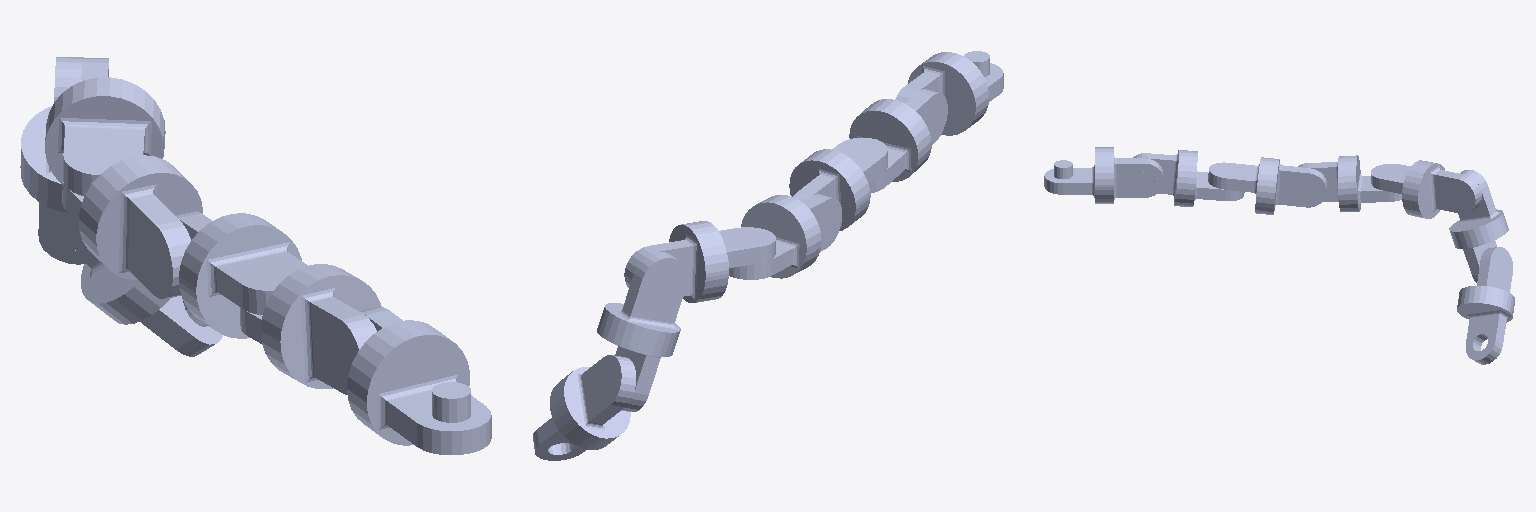
robot.urdf — snake_v1:
<?xml version="1.0" encoding="utf-8"?>
<!-- This URDF was automatically created by SolidWorks to URDF Exporter! Originally created by [author] ([email redacted]) 
     Commit Version: 1.6.0-1-g15f4949  Build Version: 1.6.7594.29634
     For more information, please see http://wiki.ros.org/sw_urdf_exporter -->
<robot
  name="snake_v1">
  <link
    name="snake_part1">
    <inertial>
      <origin
        xyz="0.0051626 -0.0051532 0.050744"
        rpy="0 0 0" />
      <mass
        value="1" />
      <inertia
        ixx="0.074094"
        ixy="-0.0001624"
        ixz="0.0042998"
        iyy="0.073863"
        iyz="0.0035178"
        izz="0.027881" />
    </inertial>
    <visual>
      <origin
        xyz="0 0 0"
        rpy="0 0 0" />
      <geometry>
        <mesh
          filename="package://snake_v1/meshes/snake_part1.STL" />
      </geometry>
      <material
        name="">
        <color
          rgba="0.79216 0.81961 0.93333 1" />
      </material>
    </visual>
    <collision>
      <origin
        xyz="0 0 0"
        rpy="0 0 0" />
      <geometry>
        <mesh
          filename="package://snake_v1/meshes/snake_part1.STL" />
      </geometry>
    </collision>
  </link>
  <link
    name="snake_part2">
    <inertial>
      <origin
        xyz="0.0051626 -0.0051532 -0.15246"
        rpy="0 0 0" />
      <mass
        value="1" />
      <inertia
        ixx="0.074094"
        ixy="-0.0001624"
        ixz="0.0042998"
        iyy="0.073863"
        iyz="0.0035178"
        izz="0.027881" />
    </inertial>
    <visual>
      <origin
        xyz="0 0 0"
        rpy="0 0 0" />
      <geometry>
        <mesh
          filename="package://snake_v1/meshes/snake_part2.STL" />
      </geometry>
      <material
        name="">
        <color
          rgba="0.79216 0.81961 0.93333 1" />
      </material>
    </visual>
    <collision>
      <origin
        xyz="0 0 0"
        rpy="0 0 0" />
      <geometry>
        <mesh
          filename="package://snake_v1/meshes/snake_part2.STL" />
      </geometry>
    </collision>
  </link>
  <joint
    name="snake_joint1"
    type="revolute">
    <origin
      xyz="0 0.127 4.6237E-05"
      rpy="0 1.4842 -1.5708" />
    <parent
      link="snake_part1" />
    <child
      link="snake_part2" />
    <axis
      xyz="0 1 0" />
    <limit
      lower="0"
      upper="0"
      effort="0"
      velocity="0" />
  </joint>
  <link
    name="snake_part3">
    <inertial>
      <origin
        xyz="0.0051626 -0.0051532 -0.15246"
        rpy="0 0 0" />
      <mass
        value="1" />
      <inertia
        ixx="0.074094"
        ixy="-0.0001624"
        ixz="0.0042998"
        iyy="0.073863"
        iyz="0.0035178"
        izz="0.027881" />
    </inertial>
    <visual>
      <origin
        xyz="0 0 0"
        rpy="0 0 0" />
      <geometry>
        <mesh
          filename="package://snake_v1/meshes/snake_part3.STL" />
      </geometry>
      <material
        name="">
        <color
          rgba="0.79216 0.81961 0.93333 1" />
      </material>
    </visual>
    <collision>
      <origin
        xyz="0 0 0"
        rpy="0 0 0" />
      <geometry>
        <mesh
          filename="package://snake_v1/meshes/snake_part3.STL" />
      </geometry>
    </collision>
  </link>
  <joint
    name="snake_joint2"
    type="revolute">
    <origin
      xyz="0 4.6237E-05 -0.3302"
      rpy="0 0.063718 -1.5708" />
    <parent
      link="snake_part2" />
    <child
      link="snake_part3" />
    <axis
      xyz="0 1 0" />
    <limit
      lower="0"
      upper="0"
      effort="0"
      velocity="0" />
  </joint>
  <link
    name="snake_part4">
    <inertial>
      <origin
        xyz="0.0051626 -0.055953 -0.15246"
        rpy="0 0 0" />
      <mass
        value="1" />
      <inertia
        ixx="0.074094"
        ixy="-0.0001624"
        ixz="0.0042998"
        iyy="0.073863"
        iyz="0.0035178"
        izz="0.027881" />
    </inertial>
    <visual>
      <origin
        xyz="0 0 0"
        rpy="0 0 0" />
      <geometry>
        <mesh
          filename="package://snake_v1/meshes/snake_part4.STL" />
      </geometry>
      <material
        name="">
        <color
          rgba="0.79216 0.81961 0.93333 1" />
      </material>
    </visual>
    <collision>
      <origin
        xyz="0 0 0"
        rpy="0 0 0" />
      <geometry>
        <mesh
          filename="package://snake_v1/meshes/snake_part4.STL" />
      </geometry>
    </collision>
  </link>
  <joint
    name="snake_joint3"
    type="revolute">
    <origin
      xyz="0 4.6237E-05 -0.3302"
      rpy="0 0.14993 1.5708" />
    <parent
      link="snake_part3" />
    <child
      link="snake_part4" />
    <axis
      xyz="0 1 0" />
    <limit
      lower="0"
      upper="0"
      effort="0"
      velocity="0" />
  </joint>
  <link
    name="snake_part5">
    <inertial>
      <origin
        xyz="0.0051626 -0.0051532 -0.15246"
        rpy="0 0 0" />
      <mass
        value="1" />
      <inertia
        ixx="0.074094"
        ixy="-0.0001624"
        ixz="0.0042998"
        iyy="0.073863"
        iyz="0.0035178"
        izz="0.027881" />
    </inertial>
    <visual>
      <origin
        xyz="0 0 0"
        rpy="0 0 0" />
      <geometry>
        <mesh
          filename="package://snake_v1/meshes/snake_part5.STL" />
      </geometry>
      <material
        name="">
        <color
          rgba="0.79216 0.81961 0.93333 1" />
      </material>
    </visual>
    <collision>
      <origin
        xyz="0 0 0"
        rpy="0 0 0" />
      <geometry>
        <mesh
          filename="package://snake_v1/meshes/snake_part5.STL" />
      </geometry>
    </collision>
  </link>
  <joint
    name="snake_joint4"
    type="revolute">
    <origin
      xyz="0 -0.050754 -0.3302"
      rpy="0 0.49074 -1.5708" />
    <parent
      link="snake_part4" />
    <child
      link="snake_part5" />
    <axis
      xyz="0 1 0" />
    <limit
      lower="0"
      upper="0"
      effort="0"
      velocity="0" />
  </joint>
  <link
    name="snake_part6">
    <inertial>
      <origin
        xyz="0.0051626 -0.055953 -0.15246"
        rpy="0 0 0" />
      <mass
        value="1" />
      <inertia
        ixx="0.074094"
        ixy="-0.0001624"
        ixz="0.0042998"
        iyy="0.073863"
        iyz="0.0035178"
        izz="0.027881" />
    </inertial>
    <visual>
      <origin
        xyz="0 0 0"
        rpy="0 0 0" />
      <geometry>
        <mesh
          filename="package://snake_v1/meshes/snake_part6.STL" />
      </geometry>
      <material
        name="">
        <color
          rgba="0.79216 0.81961 0.93333 1" />
      </material>
    </visual>
    <collision>
      <origin
        xyz="0 0 0"
        rpy="0 0 0" />
      <geometry>
        <mesh
          filename="package://snake_v1/meshes/snake_part6.STL" />
      </geometry>
    </collision>
  </link>
  <joint
    name="snake_joint5"
    type="revolute">
    <origin
      xyz="0 4.6237E-05 -0.3302"
      rpy="0 -1.2686 1.5708" />
    <parent
      link="snake_part5" />
    <child
      link="snake_part6" />
    <axis
      xyz="0 1 0" />
    <limit
      lower="0"
      upper="0"
      effort="0"
      velocity="0" />
  </joint>
  <link
    name="snake_part7">
    <inertial>
      <origin
        xyz="0.0051626 -0.0051532 -0.15246"
        rpy="0 0 0" />
      <mass
        value="1" />
      <inertia
        ixx="0.074094"
        ixy="-0.0001624"
        ixz="0.0042998"
        iyy="0.073863"
        iyz="0.0035178"
        izz="0.027881" />
    </inertial>
    <visual>
      <origin
        xyz="0 0 0"
        rpy="0 0 0" />
      <geometry>
        <mesh
          filename="package://snake_v1/meshes/snake_part7.STL" />
      </geometry>
      <material
        name="">
        <color
          rgba="0.79216 0.81961 0.93333 1" />
      </material>
    </visual>
    <collision>
      <origin
        xyz="0 0 0"
        rpy="0 0 0" />
      <geometry>
        <mesh
          filename="package://snake_v1/meshes/snake_part7.STL" />
      </geometry>
    </collision>
  </link>
  <joint
    name="snake_joint6"
    type="revolute">
    <origin
      xyz="0 -0.050754 -0.3302"
      rpy="0 0.76207 -1.5708" />
    <parent
      link="snake_part6" />
    <child
      link="snake_part7" />
    <axis
      xyz="0 1 0" />
    <limit
      lower="0"
      upper="0"
      effort="0"
      velocity="0" />
  </joint>
</robot>

--- Facts derived from the render (not from the file) ---
3 views of the same robot in one strip: view 1: azimuth 30°, elevation 25°; view 2: azimuth 150°, elevation 25°; view 3: azimuth 270°, elevation 25° (orthographic).
Model snake_v1 with 7 links and 6 joints (6 revolute), rooted at snake_part1, posed all joints at 0.
Links seen in each view (by area): view 1: snake_part1, snake_part4, snake_part2, snake_part3, snake_part5, snake_part7, snake_part6; view 2: snake_part6, snake_part7, snake_part5, snake_part4, snake_part2, snake_part3, snake_part1; view 3: snake_part7, snake_part1, snake_part5, snake_part3, snake_part6, snake_part2, snake_part4.
Boxes of the visible links, x1,y1,x2,y2 form: snake_part1: (347,307,491,454); snake_part4: (62,155,202,298); snake_part2: (240,264,381,394); snake_part3: (176,211,307,338); snake_part5: (45,57,165,196); snake_part7: (58,223,222,356); snake_part6: (20,57,98,264); snake_part6: (597,252,687,411); snake_part7: (533,355,635,460); snake_part5: (624,221,775,302); snake_part4: (729,194,841,279); snake_part2: (849,89,947,193); snake_part3: (789,138,887,230); snake_part1: (895,51,1003,135); snake_part7: (1457,247,1514,364); snake_part1: (1044,147,1163,203); snake_part5: (1371,160,1481,218); snake_part3: (1208,157,1326,214); snake_part6: (1449,170,1508,282); snake_part2: (1133,150,1244,206); snake_part4: (1298,155,1401,211).
Bounding box of the posed robot: 0.611 × 1.9 × 0.7591 m (x, y, z).
Meshes: 7 distinct files referenced, 7 mesh visuals loaded (7 binary STL).